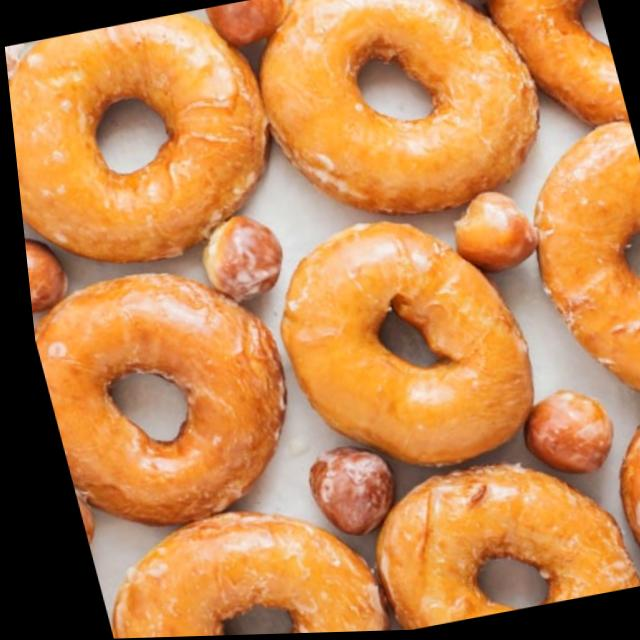donut: (243, 199, 550, 493), (1, 2, 299, 287), (21, 249, 305, 542), (231, 0, 559, 240), (341, 445, 632, 633), (496, 118, 640, 437), (71, 489, 375, 639), (479, 0, 628, 146), (588, 410, 640, 590)
